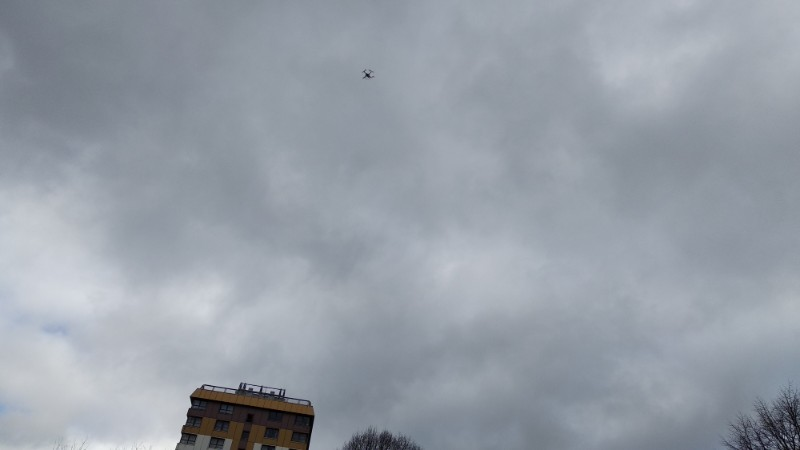drone: (361, 70, 376, 80)
